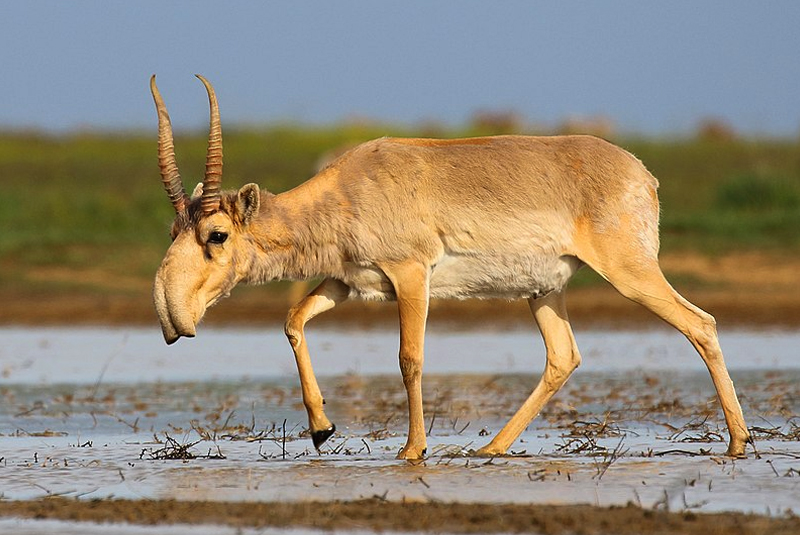saiga: (149, 72, 754, 486)
